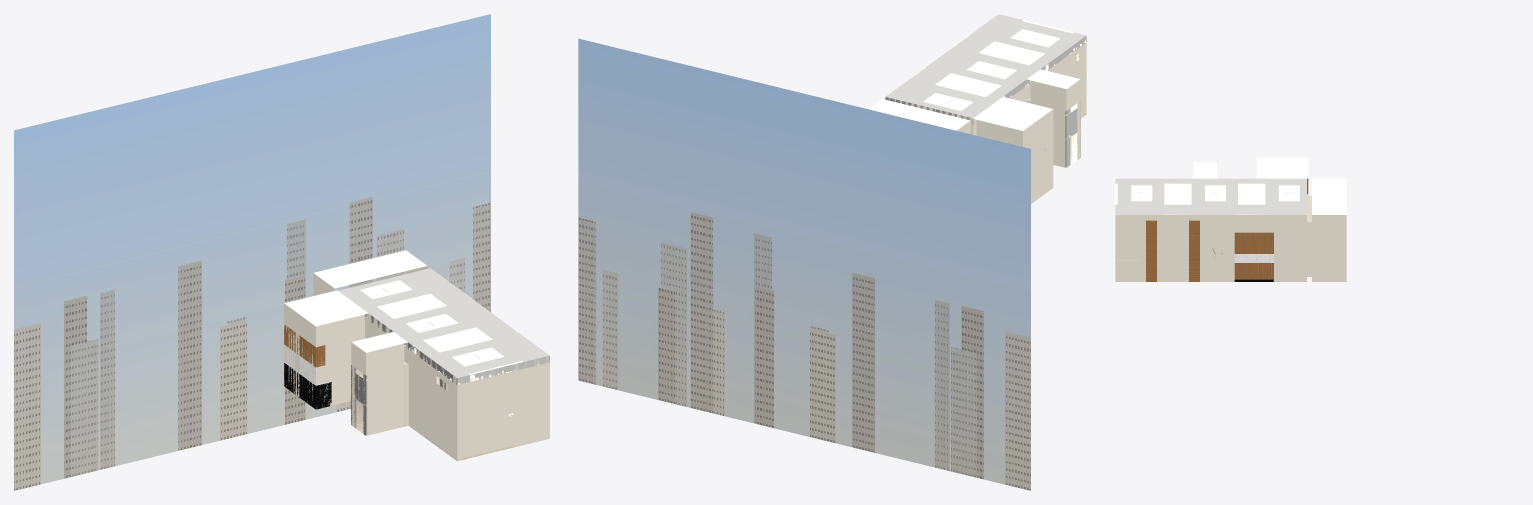
Rendered from room.glb.
3 renders of one model, left to right at view 1: azimuth 30°, elevation 25°; view 2: azimuth 150°, elevation 25°; view 3: azimuth 270°, elevation 25°, orthographic. The views are drawn at different scales.
Parts seen in each view (by area): view 1: Outside View, Shell_Ceiling, Shell_Front Wall, Shell_Left Wall, Shell_Corridor Side A, Shell_Kitchen Side A, LM_KitchenGlimpse, Shell_Balcony Ceiling Outside, Shell_Kitchen Ceiling, Shell_Kitchen Back, LM_FalseCeiling, LM_BedDoor (+2 smaller); view 2: Outside View, Shell_Ceiling, Shell_Kitchen Back, Shell_Corridor Side B, Shell_Kitchen Ceiling, Shell_Left Wall, Shell_Balcony Ceiling Outside, LM_BedDoor, Shell_Kitchen Side B, LM_FalseCeiling, Shell_Corridor Ceiling, Shell_Corridor End; view 3: Shell_Right Wall, Shell_Ceiling, Shell_Balcony Side R Outside, LM_Crockery, LM_TVFlutes, Shell_Balcony Ceiling Outside, Shell_Kitchen Ceiling.
Boxes of the visible parts, bbox=[...] form: Outside View: bbox=[14, 14, 490, 490]; Shell_Ceiling: bbox=[338, 268, 549, 377]; Shell_Front Wall: bbox=[457, 356, 549, 460]; Shell_Left Wall: bbox=[365, 313, 457, 460]; Shell_Corridor Side A: bbox=[366, 343, 404, 435]; Shell_Kitchen Side A: bbox=[316, 314, 364, 408]; LM_KitchenGlimpse: bbox=[284, 325, 332, 409]; Shell_Balcony Ceiling Outside: bbox=[314, 250, 426, 288]; Shell_Kitchen Ceiling: bbox=[284, 290, 368, 326]; Shell_Kitchen Back: bbox=[284, 303, 315, 401]; LM_FalseCeiling: bbox=[365, 314, 549, 384]; LM_BedDoor: bbox=[351, 365, 367, 436]; Outside View: bbox=[578, 38, 1030, 490]; Shell_Ceiling: bbox=[886, 14, 1086, 118]; Shell_Kitchen Back: bbox=[1023, 109, 1053, 203]; Shell_Corridor Side B: bbox=[1030, 80, 1066, 167]; Shell_Kitchen Ceiling: bbox=[973, 97, 1052, 130]; Shell_Left Wall: bbox=[973, 40, 1086, 135]; Shell_Balcony Ceiling Outside: bbox=[869, 99, 970, 130]; LM_BedDoor: bbox=[1065, 100, 1080, 168]; Shell_Kitchen Side B: bbox=[976, 120, 1022, 146]; LM_FalseCeiling: bbox=[885, 36, 1086, 124]; Shell_Corridor Ceiling: bbox=[1027, 69, 1080, 89]; Shell_Corridor End: bbox=[1066, 79, 1080, 161]; Shell_Right Wall: bbox=[1115, 215, 1306, 281]; Shell_Ceiling: bbox=[1115, 178, 1306, 214]; Shell_Balcony Side R Outside: bbox=[1312, 215, 1346, 281]; LM_Crockery: bbox=[1234, 232, 1274, 281]; LM_TVFlutes: bbox=[1146, 220, 1199, 281]; Shell_Balcony Ceiling Outside: bbox=[1312, 178, 1346, 214]; Shell_Kitchen Ceiling: bbox=[1257, 157, 1308, 178].
Bounding box in the file's own units: 18 × 13 × 16.4.
Materials: 85 (48 with a texture image).
